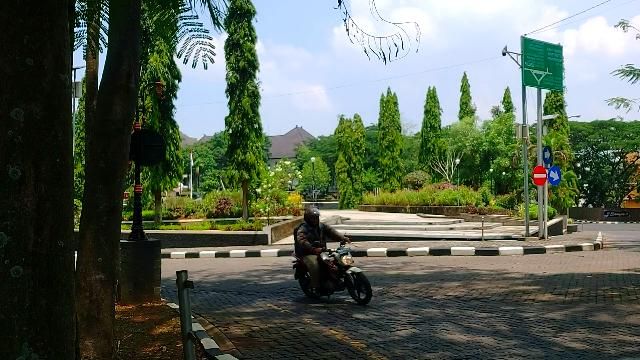helm: (305, 208, 323, 229)
motor: (292, 233, 374, 307)
